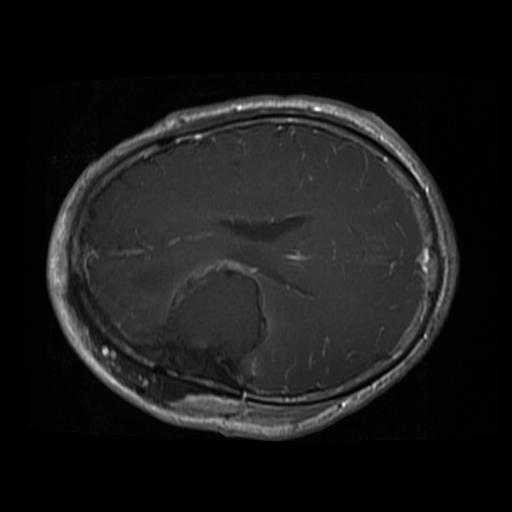glioma: (140, 260, 269, 385)
